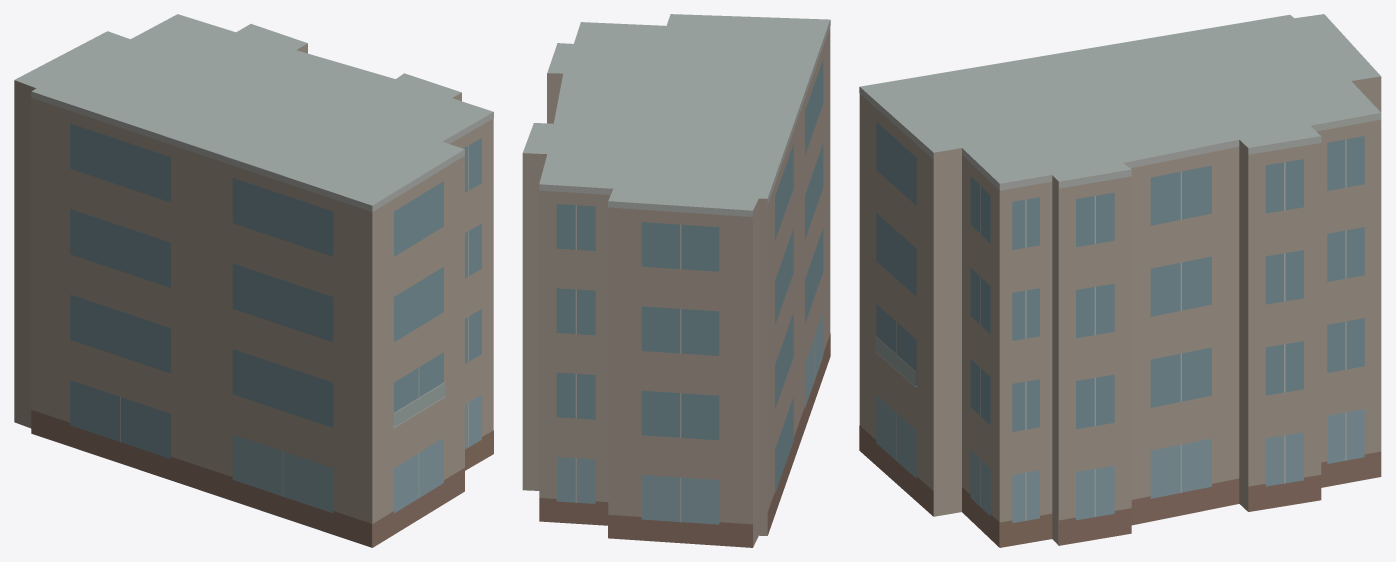
File: survey-upis-32754681.glb
The picture shows the model from 3 angles, left to right: view 1: azimuth 30°, elevation 25°; view 2: azimuth 150°, elevation 25°; view 3: azimuth 270°, elevation 25°; orthographic projection. The views are drawn at different scales.
Parts seen in each view (by area): view 1: survey-upis-32754681.tmp; view 2: survey-upis-32754681.tmp; view 3: survey-upis-32754681.tmp.
Part boxes in pixels (bbox=[...]): survey-upis-32754681.tmp: bbox=[14, 14, 493, 547]; survey-upis-32754681.tmp: bbox=[522, 14, 830, 547]; survey-upis-32754681.tmp: bbox=[859, 14, 1381, 547].
Size of the model in its own units: 13.01 by 13 by 16.89.
